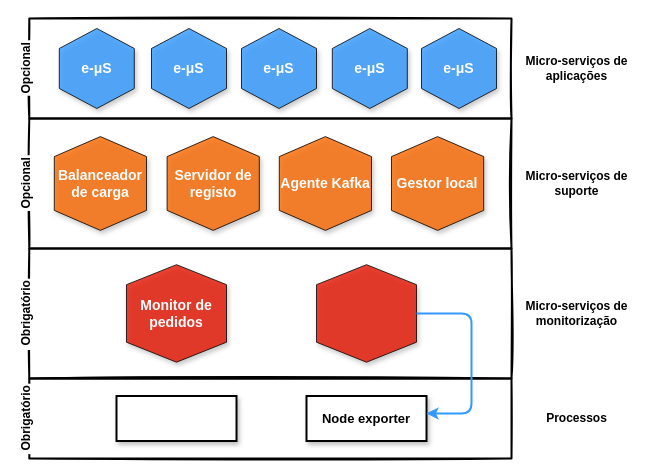
Image size: 654x476. Some labels were removed from this diagram. The centre of each missing label's shape, as x and y in pixels:
"Docker" goes at [177,419].
"Prometheus" goes at [367,314].
